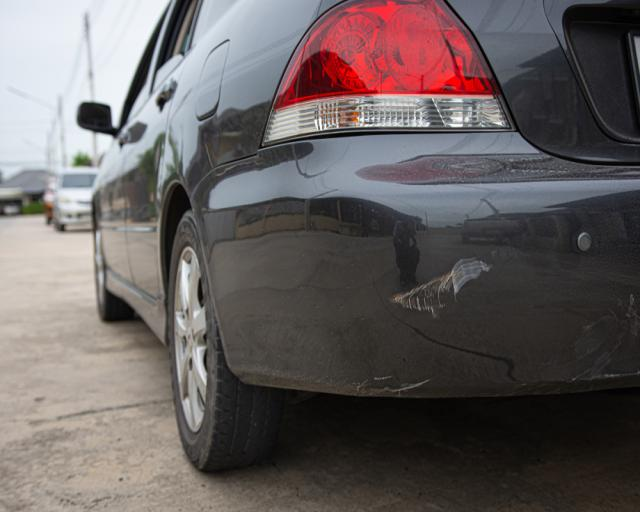scratch: (567, 287, 640, 382), (389, 252, 493, 316), (336, 374, 433, 396)
